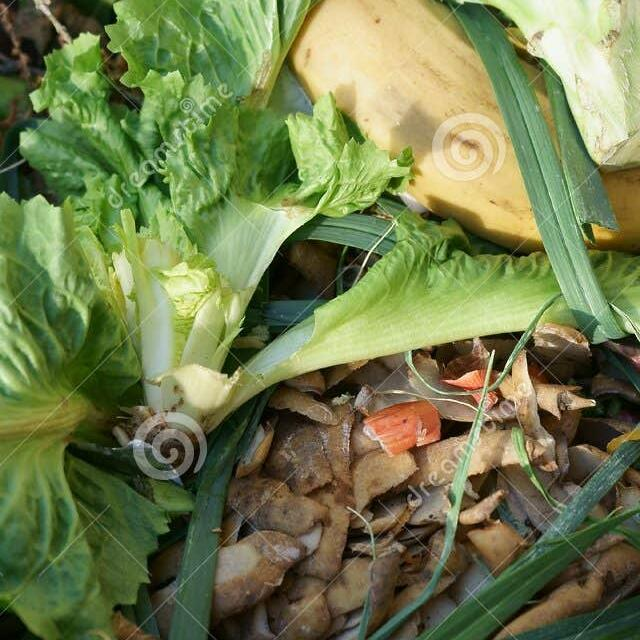food_waste: (254, 0, 640, 270), (240, 209, 640, 414), (210, 378, 522, 627), (0, 189, 163, 615), (416, 0, 640, 142), (507, 415, 640, 633), (0, 0, 168, 47)
